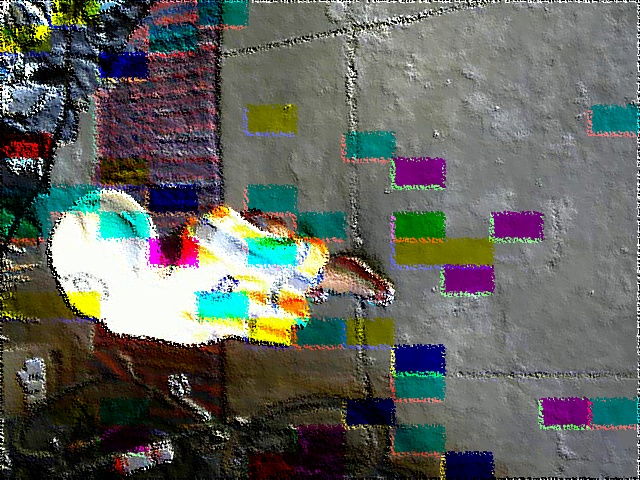eight: (61, 274, 106, 308)
